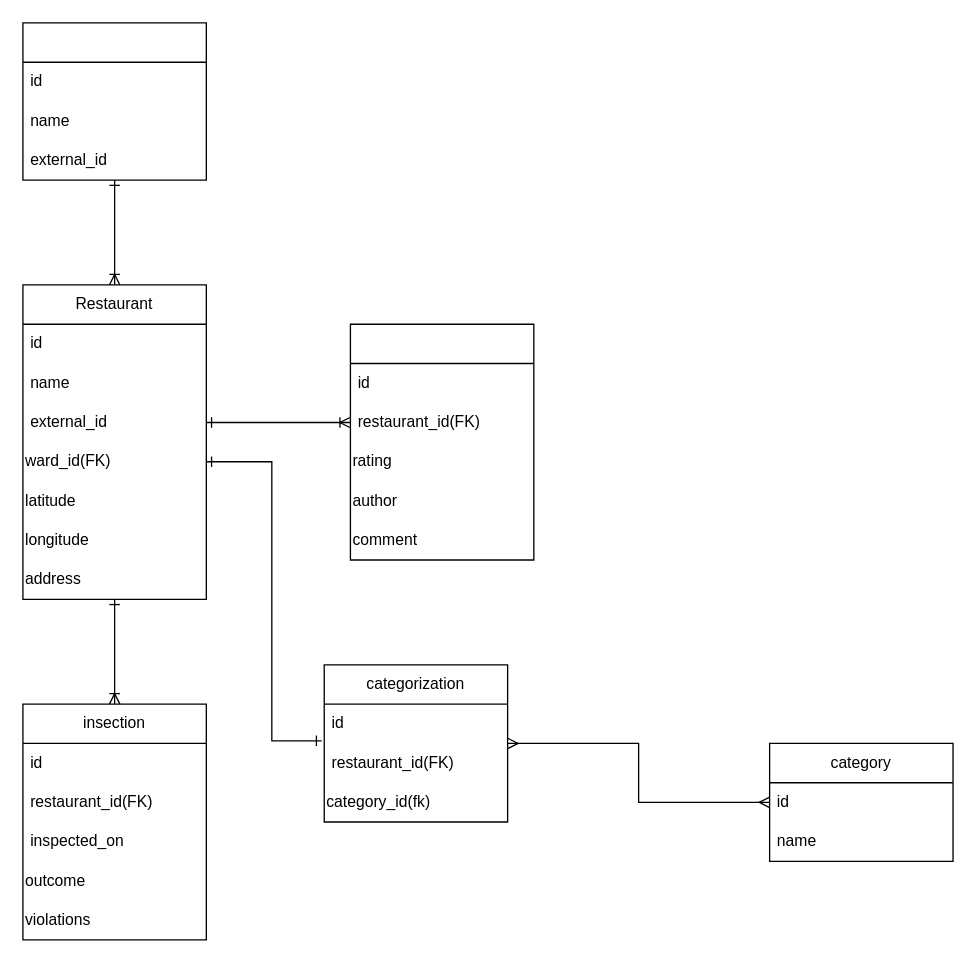
The diagram is 976 pixels wide and 963 high, and some of its shapes have lost their labels. The shapes that lost their labels are listed below. From the top down, each one's box as (x1, y1, x2, y2) in pixels, then its label:
(22, 22, 206, 180): Ward
(349, 323, 534, 560): Review
